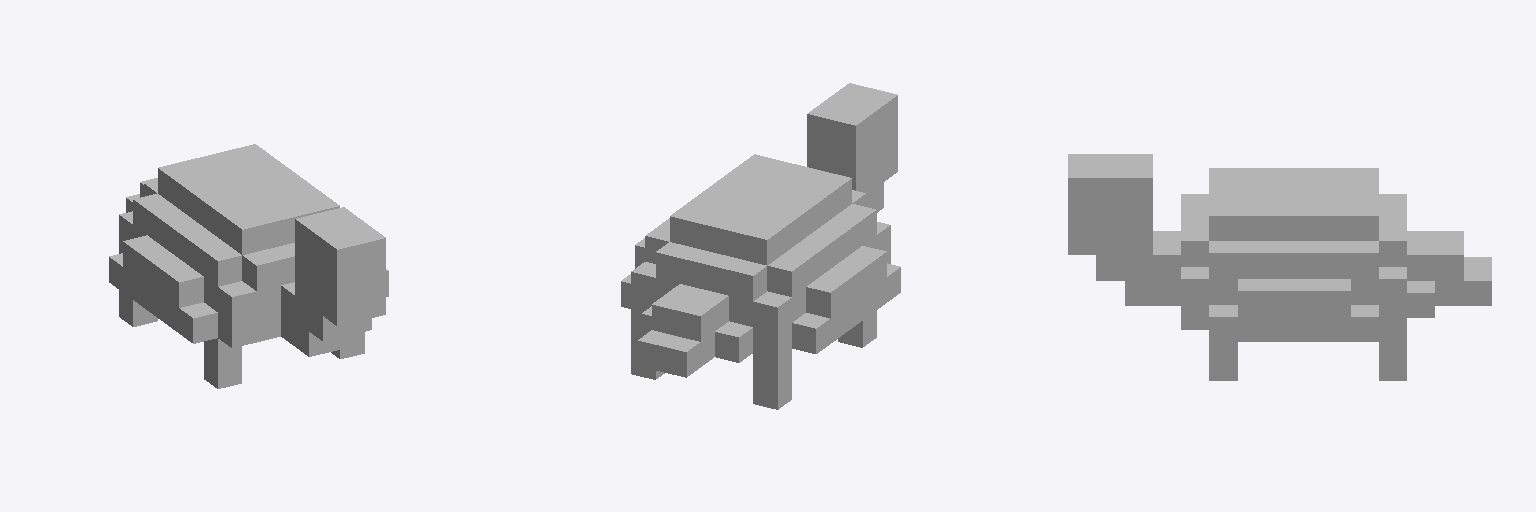
Rendered from turtle.obj.
The picture shows the model from 3 angles: view 1: azimuth 30°, elevation 25°; view 2: azimuth 150°, elevation 25°; view 3: azimuth 270°, elevation 25°; orthographic projection.
Size of the model in its own units: 8 by 7 by 15.